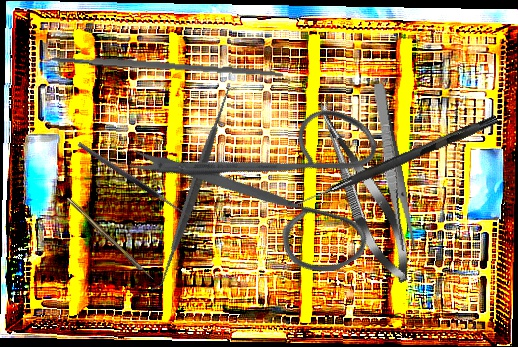Dressing Forceps: (367, 82, 418, 252)
Hook Surgical: (289, 111, 499, 215), (76, 136, 198, 221), (65, 196, 156, 283)
Iris Scissors: (121, 45, 421, 336)
Micro Scissor: (302, 92, 423, 290)
Scalpel Handle: (51, 52, 284, 80)
Spatula Surgical: (94, 86, 294, 292)
